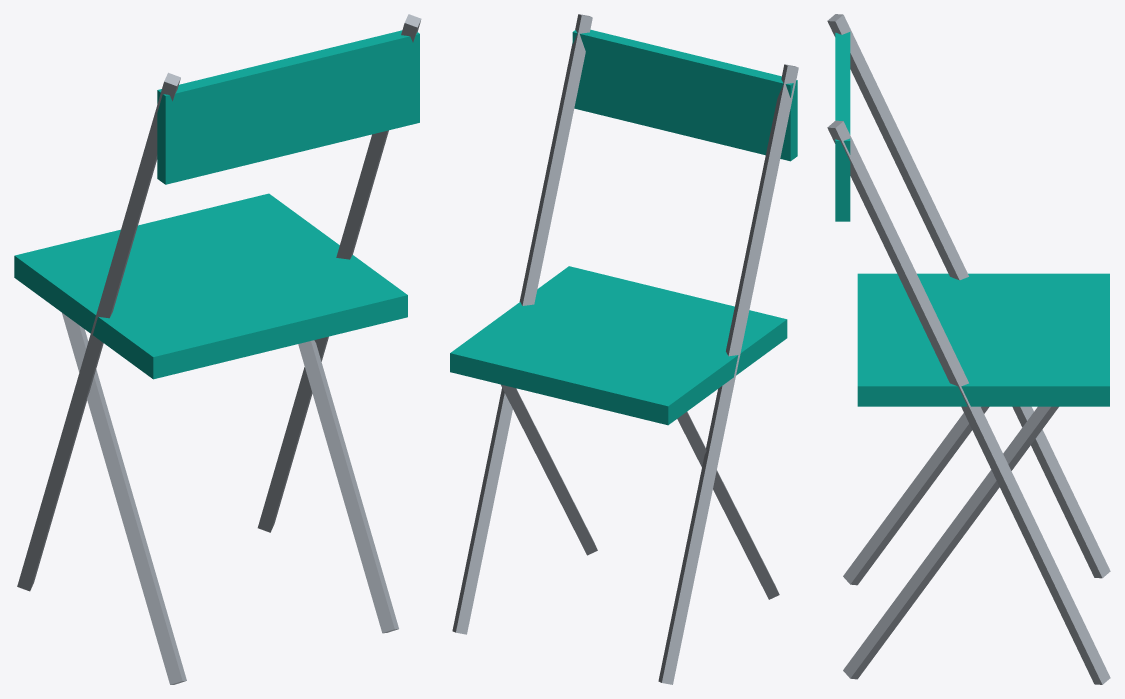
File: station_special_ausstattung_3_0.glb
3 views of the same model, side by side, from view 1: azimuth 30°, elevation 25°; view 2: azimuth 150°, elevation 25°; view 3: azimuth 270°, elevation 25° (orthographic). The views are drawn at different scales.
Parts seen in each view (by area): view 1: station_special_ausstattung_3_0; view 2: station_special_ausstattung_3_0; view 3: station_special_ausstattung_3_0.
Boxes of the visible parts, x1,y1,x2,y2 form: station_special_ausstattung_3_0: [14, 14, 421, 684]; station_special_ausstattung_3_0: [450, 14, 798, 684]; station_special_ausstattung_3_0: [827, 14, 1110, 684].
Size of the model in its own units: 0.364 by 0.8395 by 0.382.
